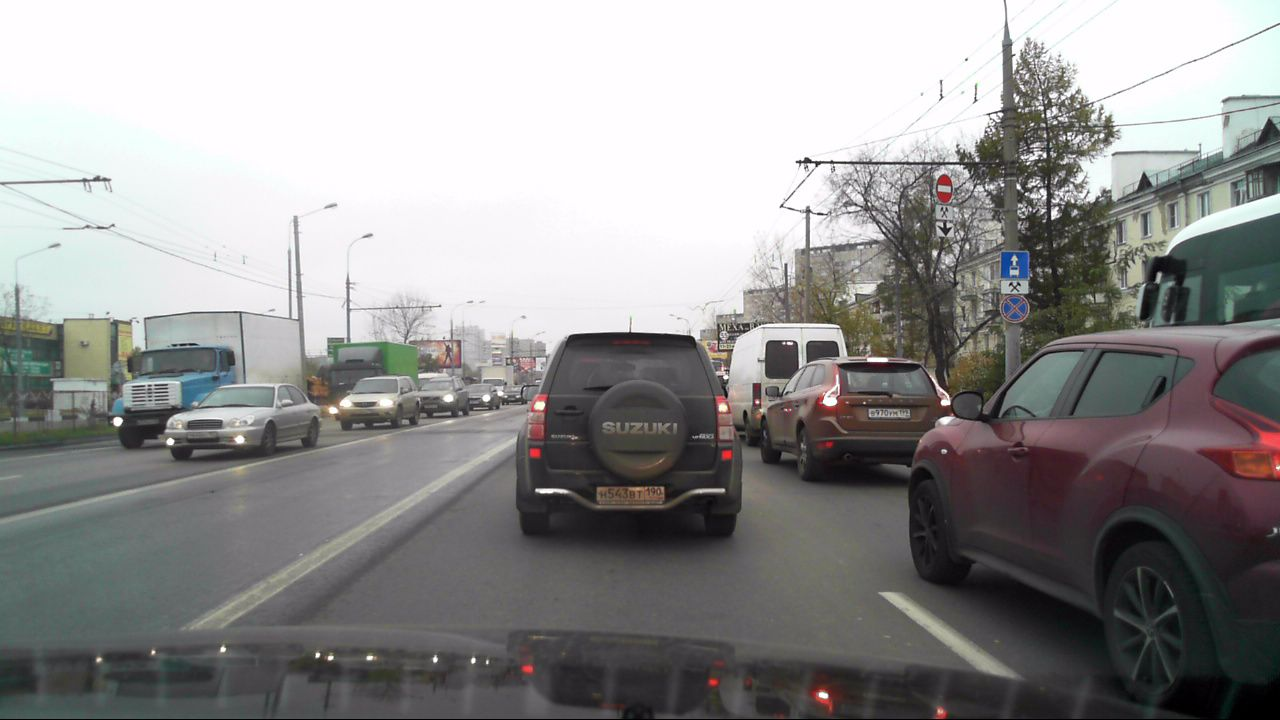No Parking: (1000, 295, 1028, 325)
